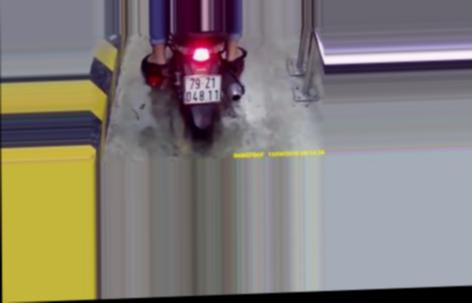License_Plate: (184, 73, 224, 105)
